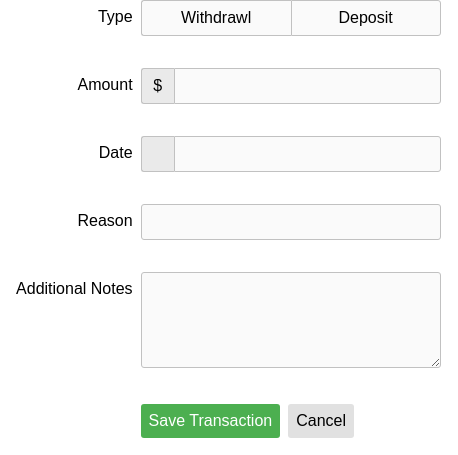
Test: NewTransactionForm › submitting with amount less than zero results in an error
Type "-10" into the field with test id "amount" at (307, 86), box x1=174 y1=68 x2=441 y2=104
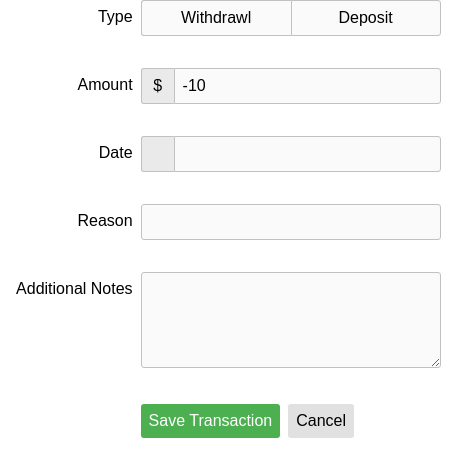
Submit the form with test id "add-transaction-form"
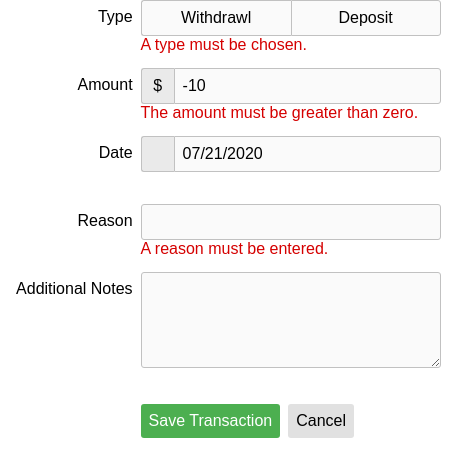
expect the text "The amount must be greater than zero." is shown: met, box x1=141 y1=104 x2=418 y2=122
